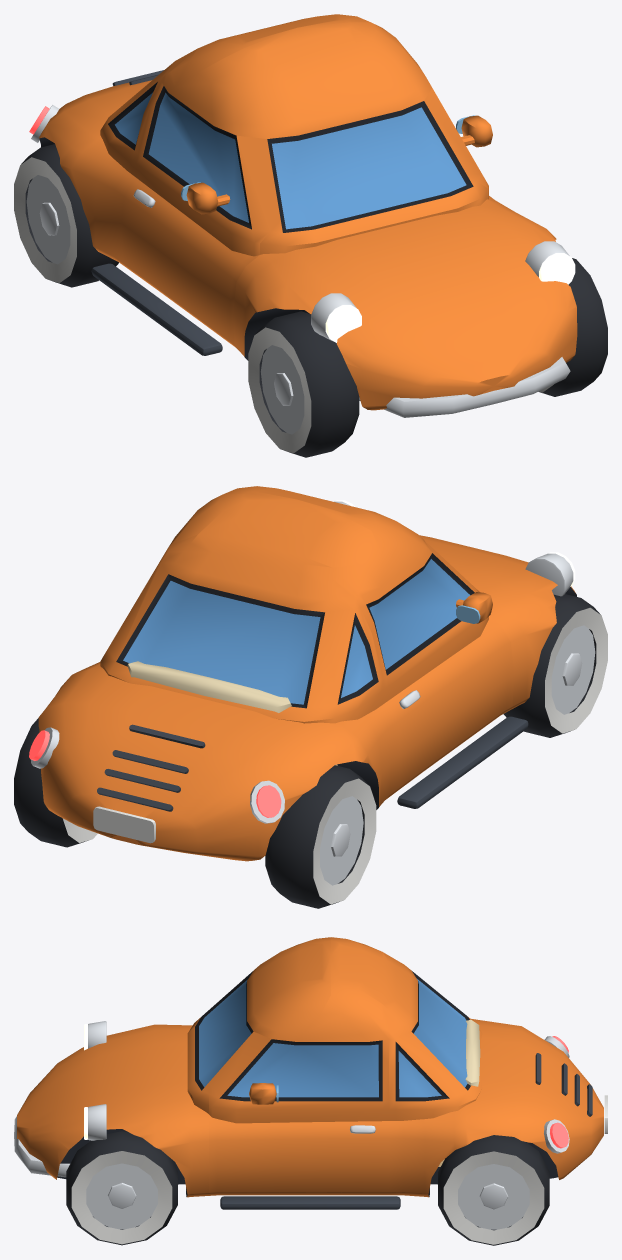
File: carrinho_redondo_laranja.glb
3 renders of one model, top to bottom at view 1: azimuth 30°, elevation 25°; view 2: azimuth 150°, elevation 25°; view 3: azimuth 270°, elevation 25°, orthographic. The views are drawn at different scales.
Parts seen in each view (by area): view 1: carrinho_redondo_laranja, porta_dianteira_esq, roda_dianteira_esq, roda_traseira_esq, roda_dianteira_dir, porta_dianteira_dir; view 2: carrinho_redondo_laranja, porta_dianteira_esq, roda_traseira_esq, roda_dianteira_esq, roda_traseira_dir; view 3: carrinho_redondo_laranja, porta_dianteira_dir, roda_dianteira_dir, roda_traseira_dir.
Part boxes in pixels (x1=…): carrinho_redondo_laranja: x1=29, y1=14, x2=577, y2=417; porta_dianteira_esq: x1=121, y1=82, x2=280, y2=345; roda_dianteira_esq: x1=248, y1=311, x2=359, y2=457; roda_traseira_esq: x1=14, y1=144, x2=118, y2=287; roda_dianteira_dir: x1=538, y1=258, x2=607, y2=396; porta_dianteira_dir: x1=424, y1=88, x2=500, y2=203; carrinho_redondo_laranja: x1=29, y1=486, x2=576, y2=861; porta_dianteira_esq: x1=360, y1=540, x2=514, y2=790; roda_traseira_esq: x1=265, y1=765, x2=376, y2=908; roda_dianteira_esq: x1=503, y1=594, x2=607, y2=737; roda_traseira_dir: x1=14, y1=718, x2=97, y2=847; carrinho_redondo_laranja: x1=14, y1=937, x2=607, y2=1209; porta_dianteira_dir: x1=209, y1=1031, x2=388, y2=1194; roda_dianteira_dir: x1=66, y1=1131, x2=177, y2=1245; roda_traseira_dir: x1=438, y1=1135, x2=549, y2=1245.
Bounding box in the file's own units: 1.84 × 1.59 × 3.63.
Materials: 4 (1 with a texture image).
